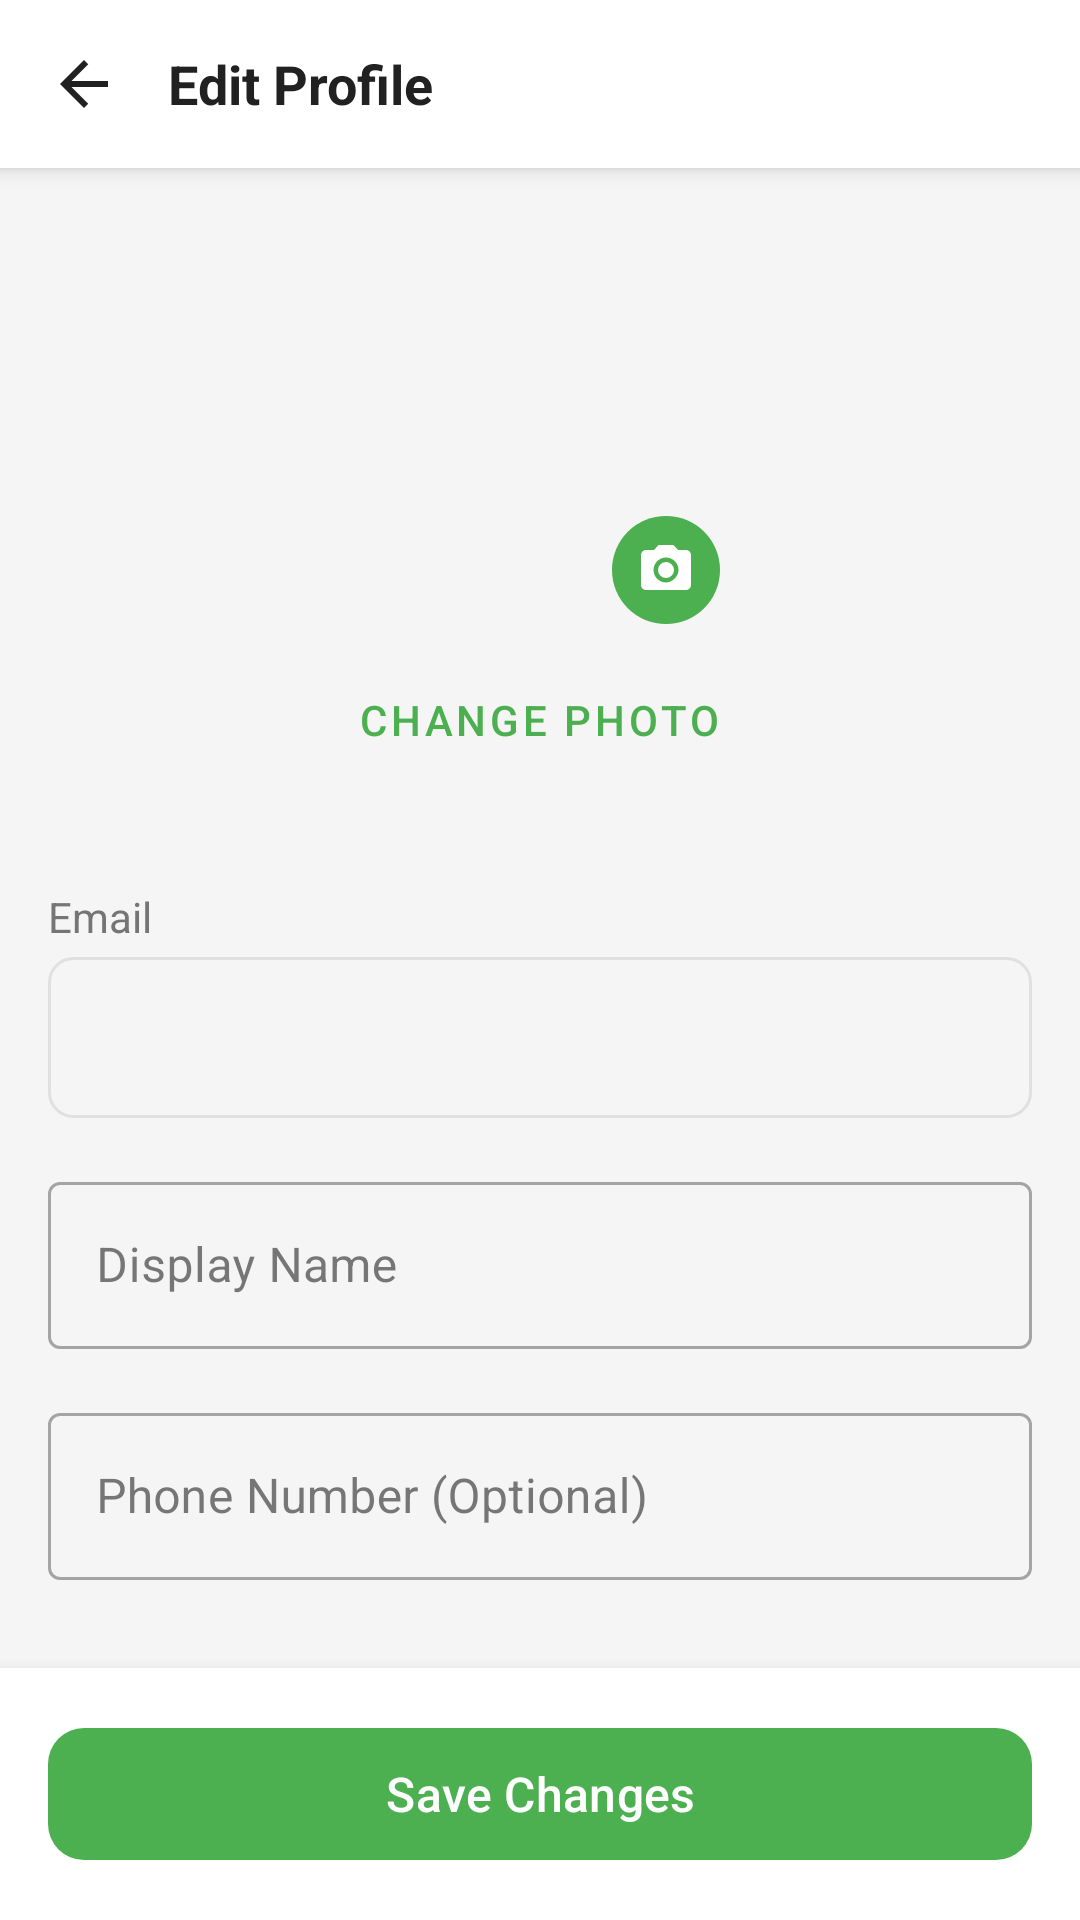

Where icons sit on this 1080px x 1920px app screen, as region(x1, y1, x2, y2):
Back: region(60, 60, 108, 108)
camera: region(641, 545, 691, 590)
